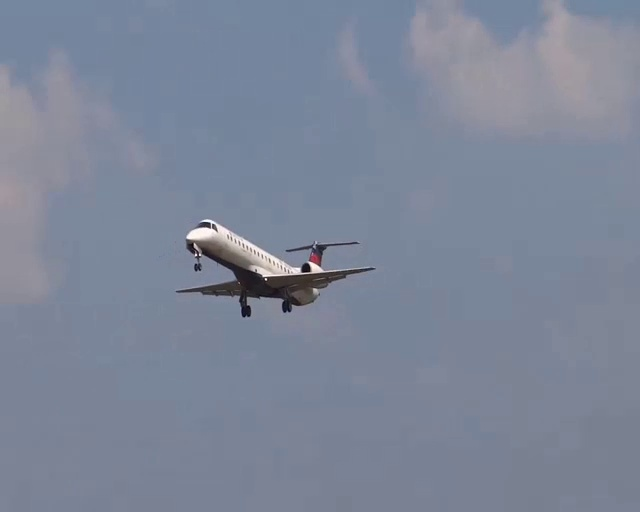AIRPLANE: (171, 216, 377, 316)
